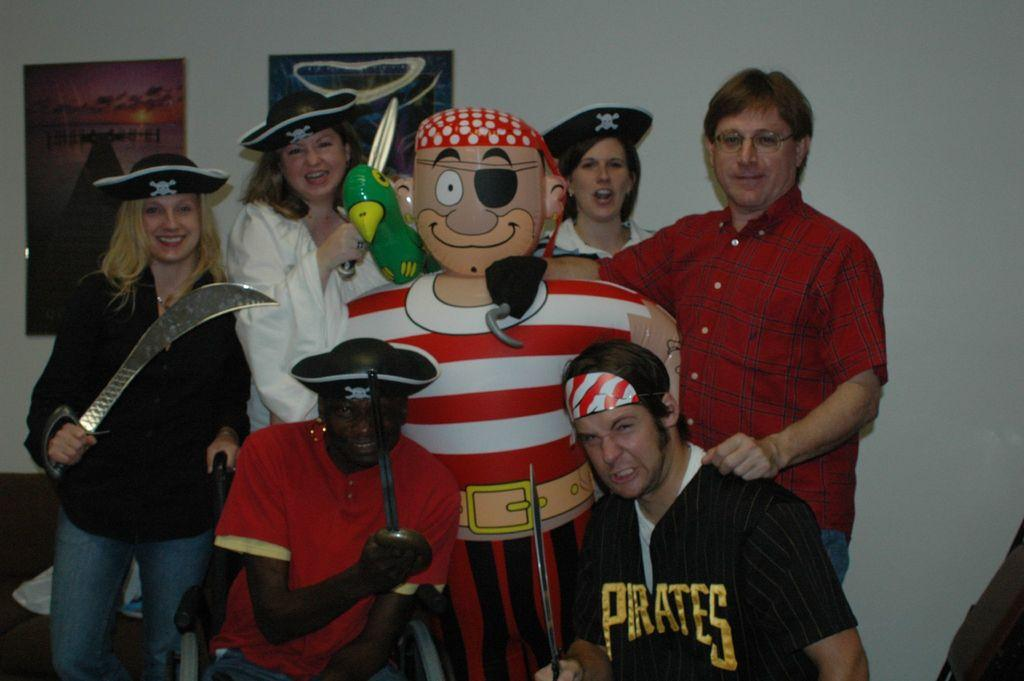Hat: (287, 334, 442, 400), (234, 88, 358, 154), (94, 150, 230, 199), (540, 104, 652, 160)
